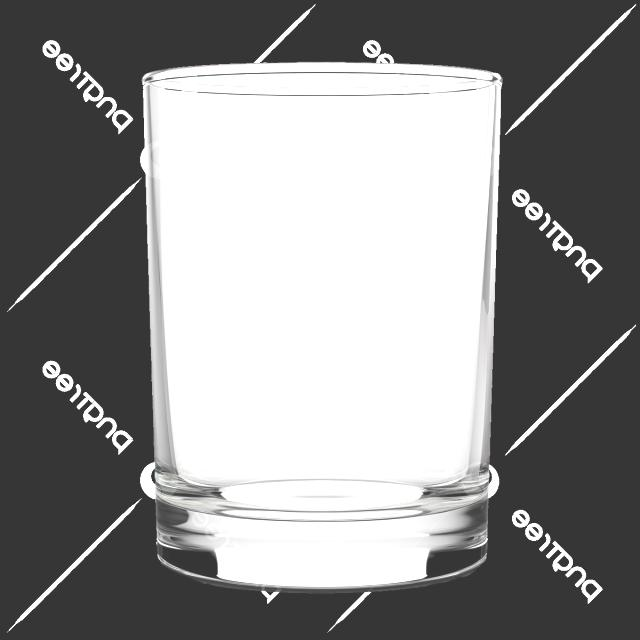Gelas: (135, 50, 514, 604)
